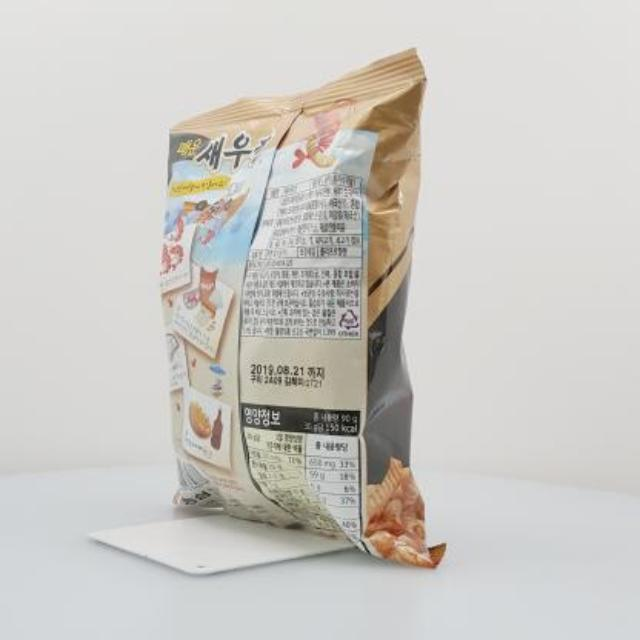snack_bag: (135, 36, 465, 582)
